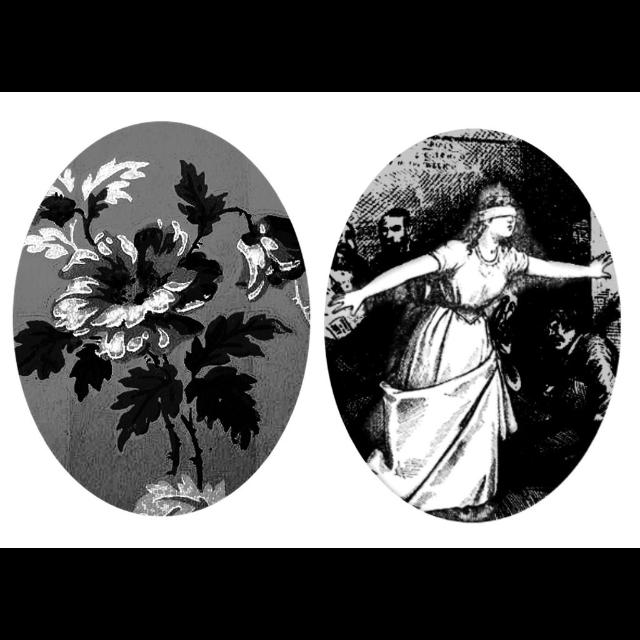Flower: (48, 222, 192, 346), (44, 160, 154, 212), (241, 232, 297, 300)
